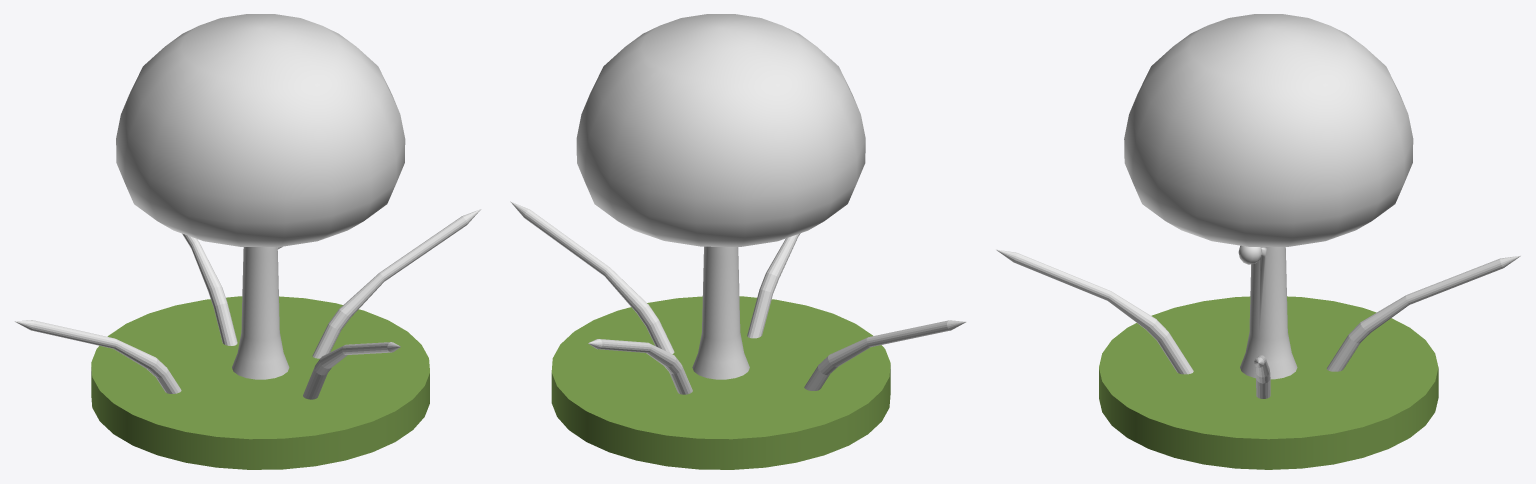
File: default_tree_final.fbx
The picture shows the model from 3 angles, left to right: view 1: azimuth 30°, elevation 25°; view 2: azimuth 150°, elevation 25°; view 3: azimuth 270°, elevation 25°; orthographic projection.
Parts seen in each view (by area): view 1: baum, Node; view 2: baum, Node; view 3: baum, Node.
Part boxes in pixels (x1=…): baum: x1=14, y1=14, x2=481, y2=399; Node: x1=91, y1=296, x2=429, y2=469; baum: x1=510, y1=14, x2=965, y2=394; Node: x1=551, y1=296, x2=890, y2=469; baum: x1=996, y1=14, x2=1520, y2=398; Node: x1=1099, y1=296, x2=1438, y2=469.
Bounding box in the file's own units: 314 × 248 × 310.
